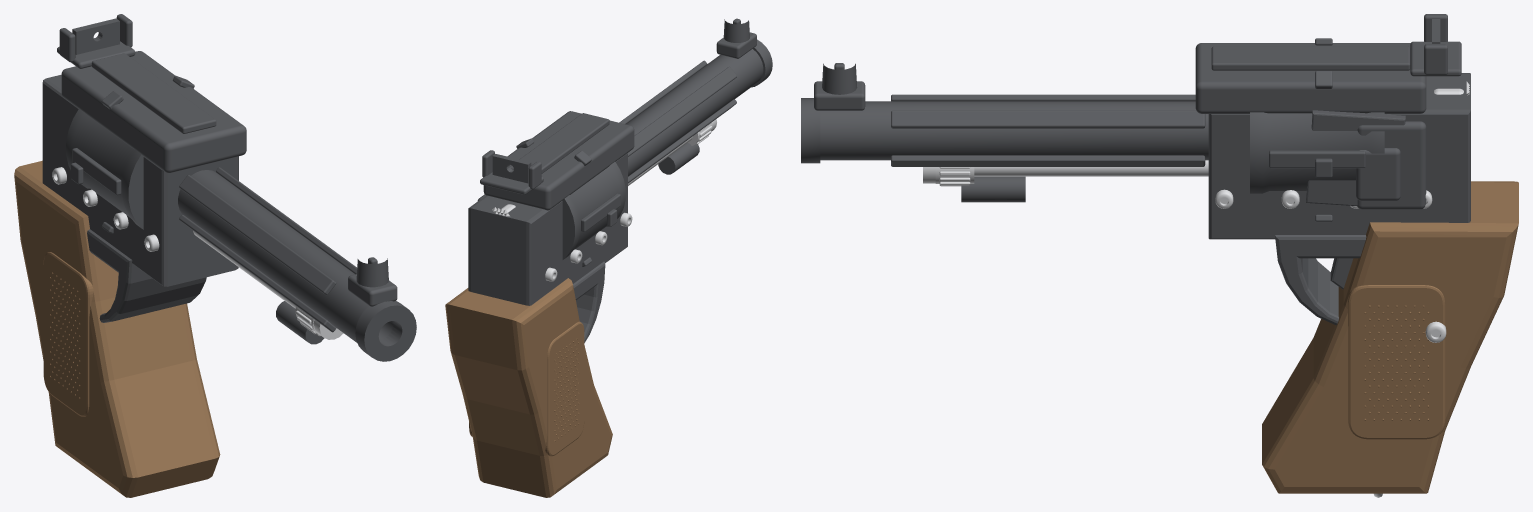
Rendered from coltsaa.glb.
3 renders of one model, left to right at view 1: azimuth 30°, elevation 25°; view 2: azimuth 150°, elevation 25°; view 3: azimuth 270°, elevation 25°, orthographic. The views are drawn at different scales.
Visible parts, largest first — view 1: single-action-revolver, cylinder/gunmetal; view 2: single-action-revolver, cylinder/gunmetal; view 3: single-action-revolver, cylinder/gunmetal.
Boxes of the visible parts, bbox=[...] form: single-action-revolver: bbox=[14, 14, 416, 497]; cylinder/gunmetal: bbox=[66, 108, 143, 229]; single-action-revolver: bbox=[445, 18, 772, 497]; cylinder/gunmetal: bbox=[562, 162, 625, 259]; single-action-revolver: bbox=[801, 14, 1518, 497]; cylinder/gunmetal: bbox=[1250, 112, 1384, 193].
Bounding box in the file's own units: 0.0574 × 0.1602 × 0.2238.
